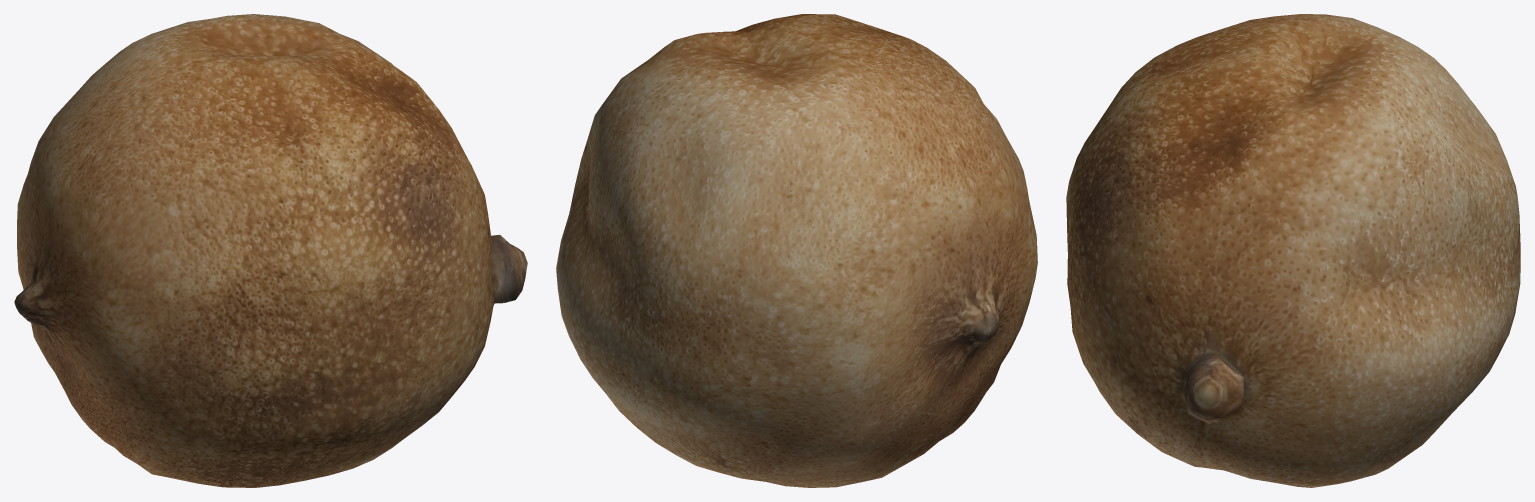
File: kiri_kumquat.gltf
3 renders of one model, left to right at view 1: azimuth 30°, elevation 25°; view 2: azimuth 150°, elevation 25°; view 3: azimuth 270°, elevation 25°, orthographic.
Parts seen in each view (by area): view 1: A55_Kumquat; view 2: A55_Kumquat; view 3: A55_Kumquat.
Boxes of the visible parts, x1,y1,x2,y2 form: A55_Kumquat: [14, 14, 527, 487]; A55_Kumquat: [556, 14, 1037, 487]; A55_Kumquat: [1066, 14, 1520, 487].
Bounding box in the file's own units: 0.0409 × 0.0356 × 0.036.
Materials: 1 (1 with a texture image).
